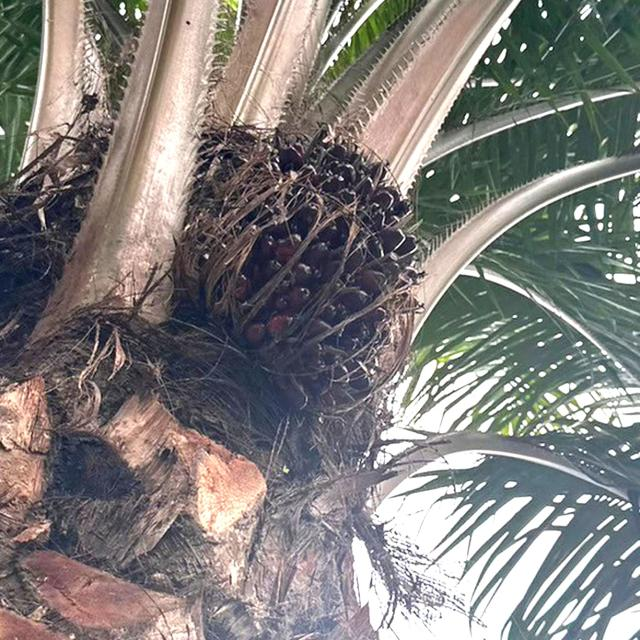ripe: (206, 100, 442, 428)
